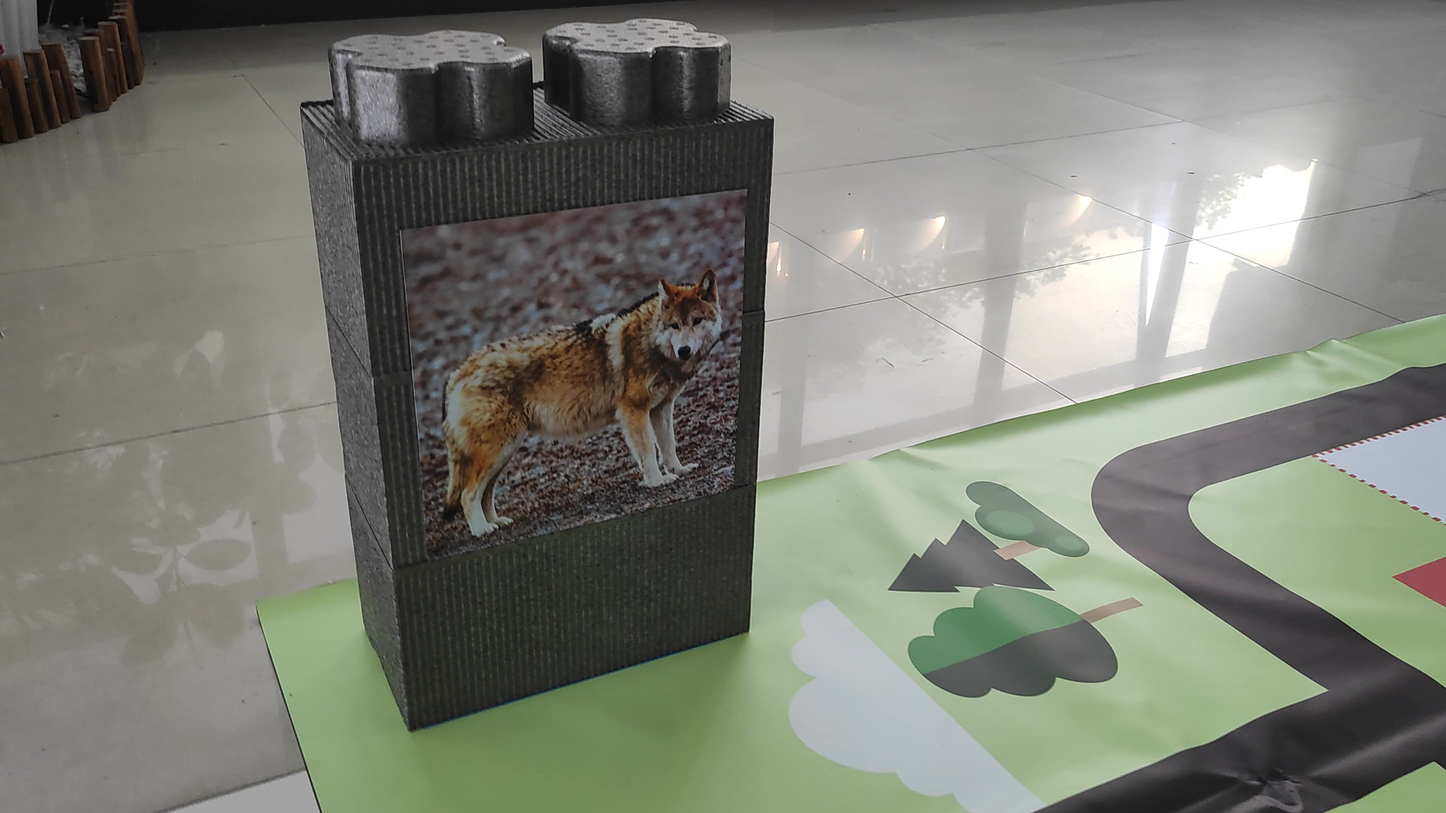wolf: (432, 236, 723, 555)
